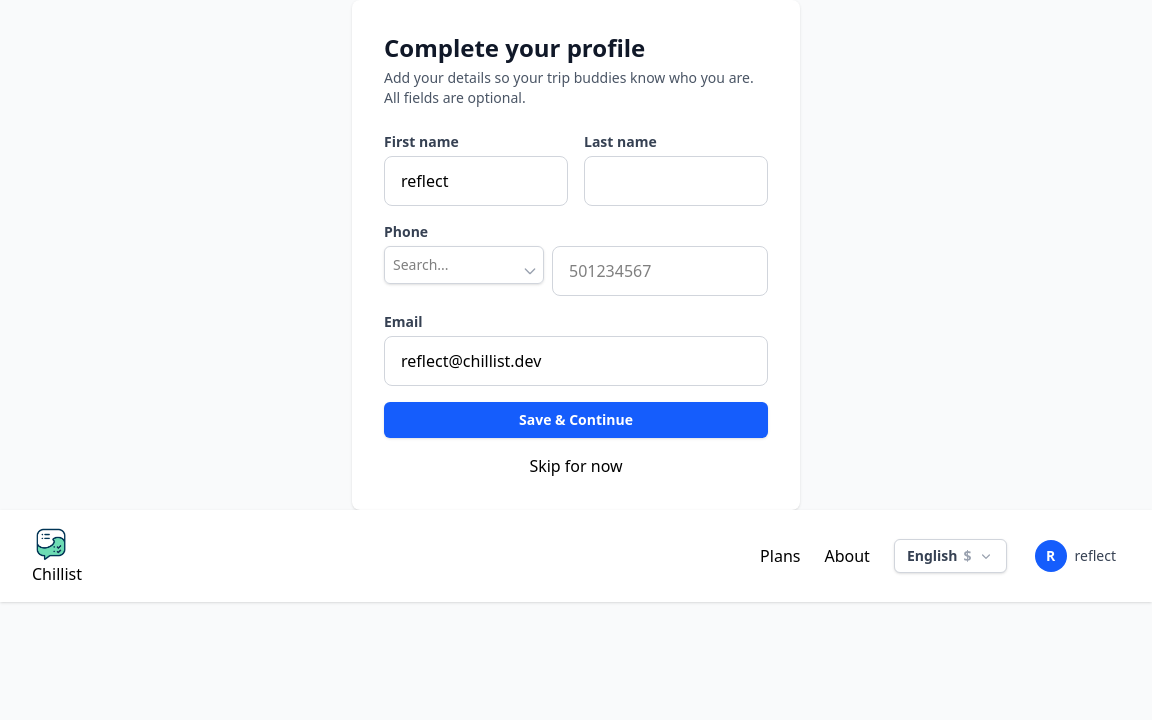
Test: Auth Flow Integration › Complete Profile › update profile -> Header reflects new name in dropdown
Replace the text in the field labelled "First name" with "Reflected" at x=476, y=181, box x1=384 y1=156 x2=568 y2=206
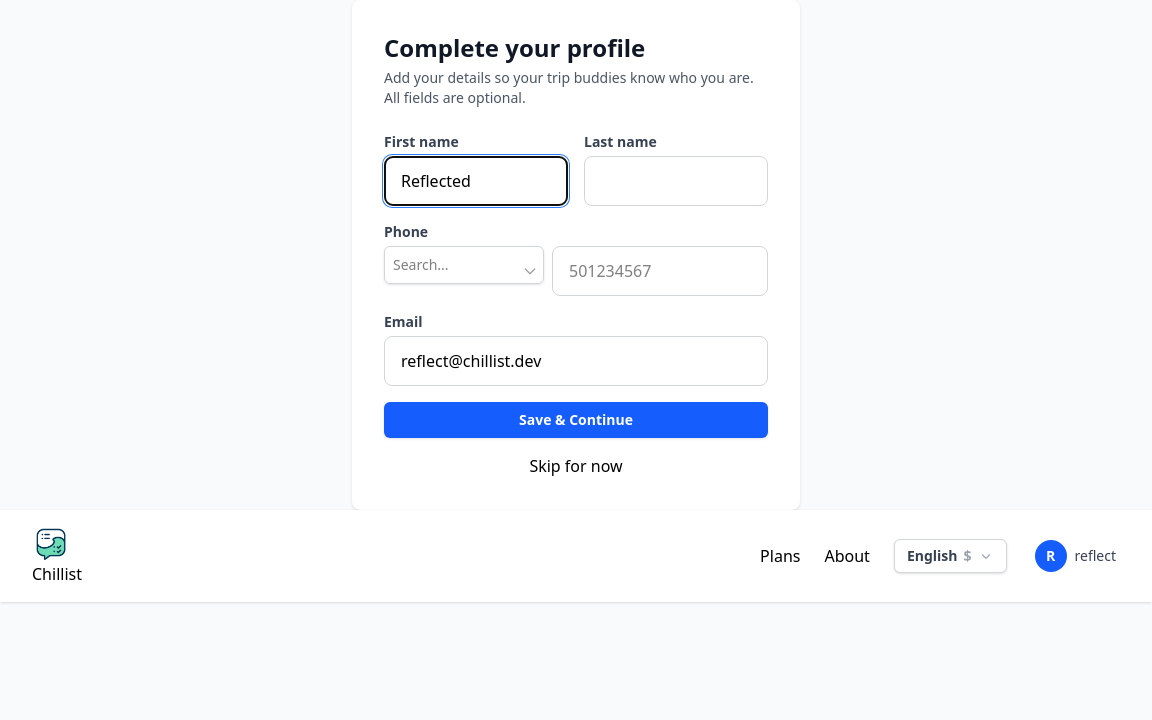
Type "Name" into the field labelled "Last name".
click(676, 181); type("Name")  # box x1=584 y1=156 x2=768 y2=206
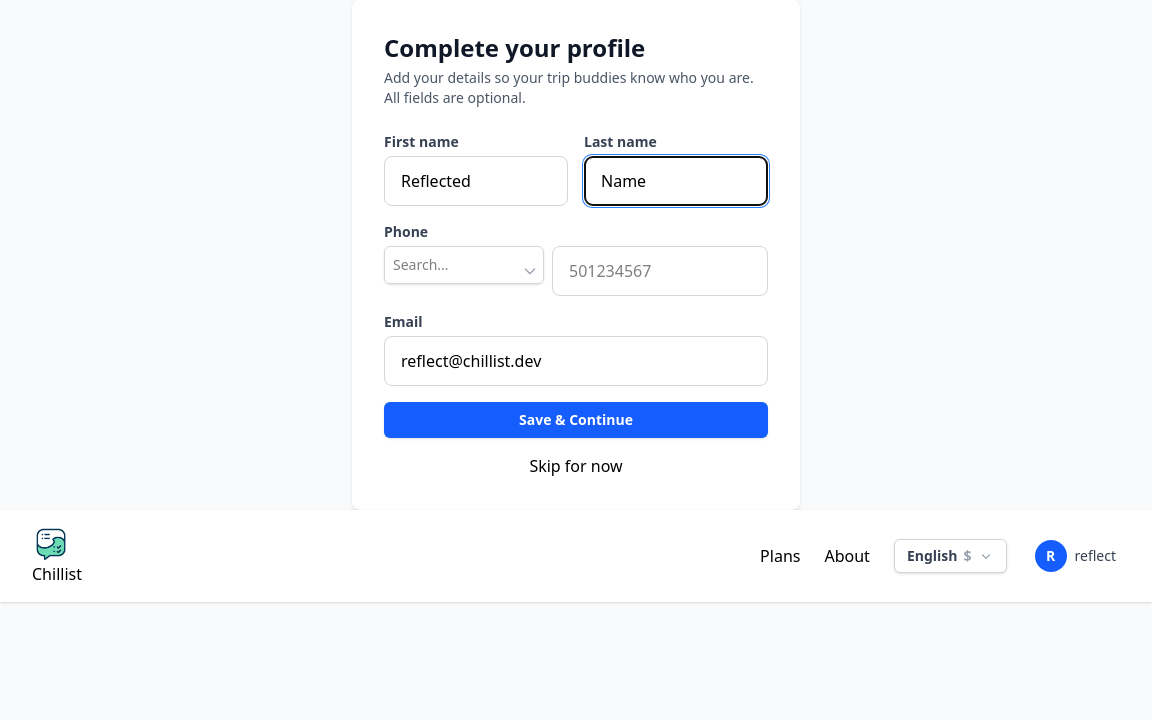
Click the button "Save & Continue".
click(576, 420)  # box x1=384 y1=402 x2=768 y2=438
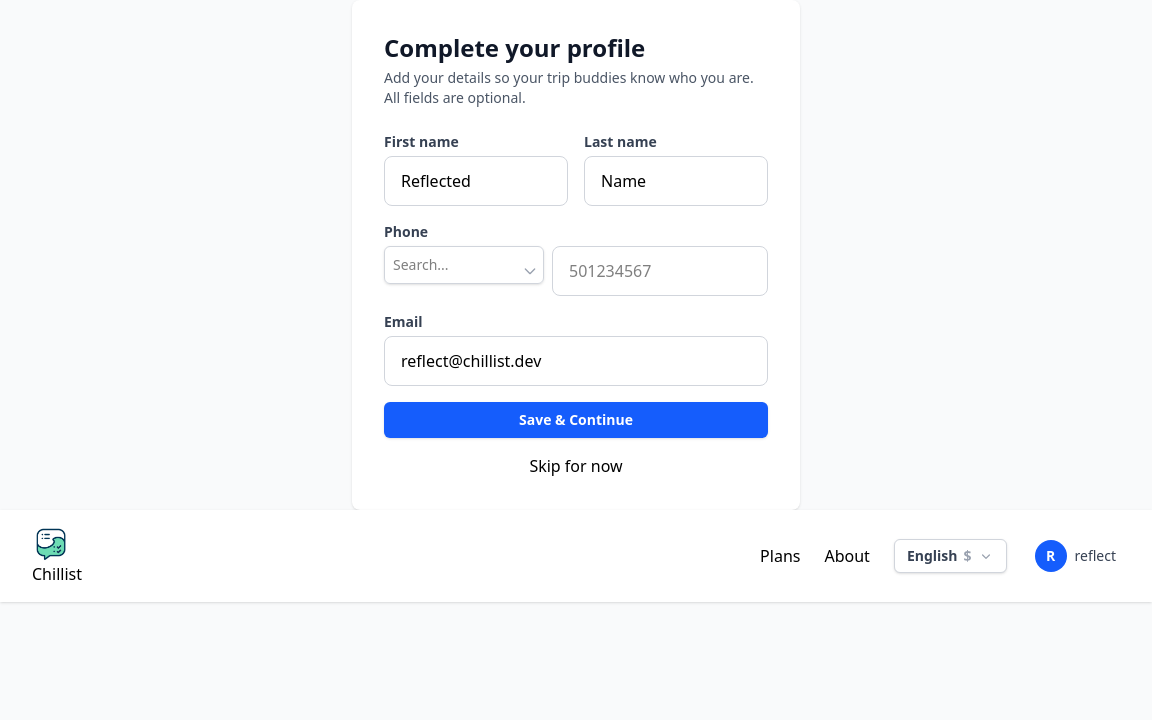
Click the button with aria-label "User menu".
click(1075, 556)  # box x1=1030 y1=536 x2=1120 y2=576
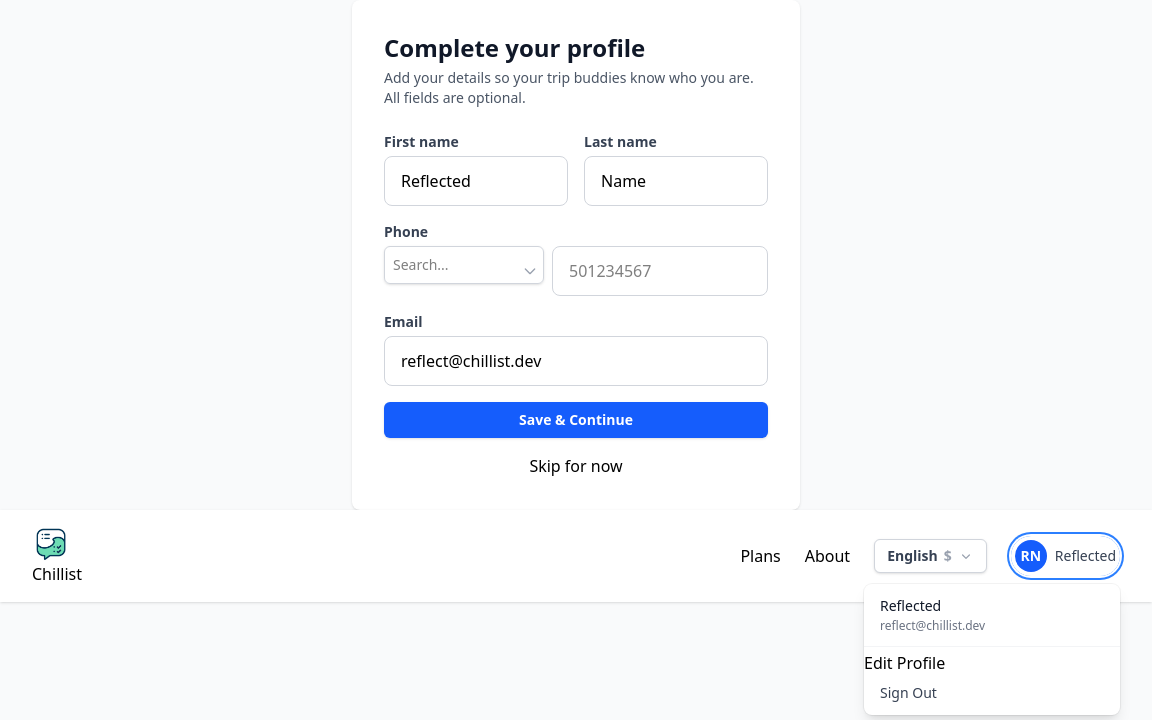
Result: the text with test id "menu-display-name" reads "Reflected" at x1=880 y1=596 x2=941 y2=615
